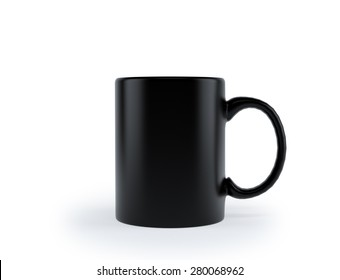cup: (110, 75, 287, 229)
